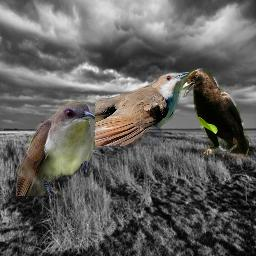Crow: (180, 68, 249, 161)
Cuckoo: (16, 101, 98, 196), (95, 72, 191, 146)
